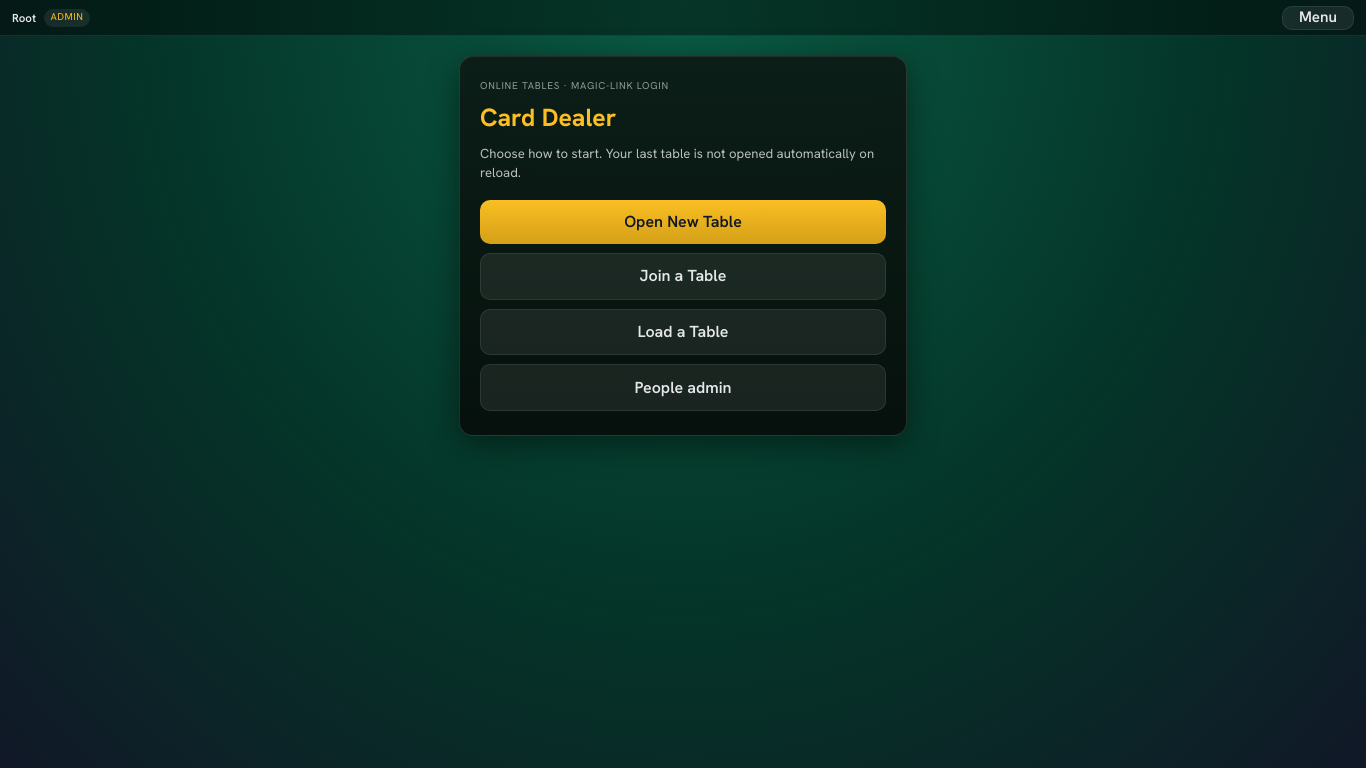
entry lobby slide-outs › Open New Table does not auto-create when clicked from App lobby
Click the button "Open New Table" at (683, 222), box [480, 200, 886, 244]
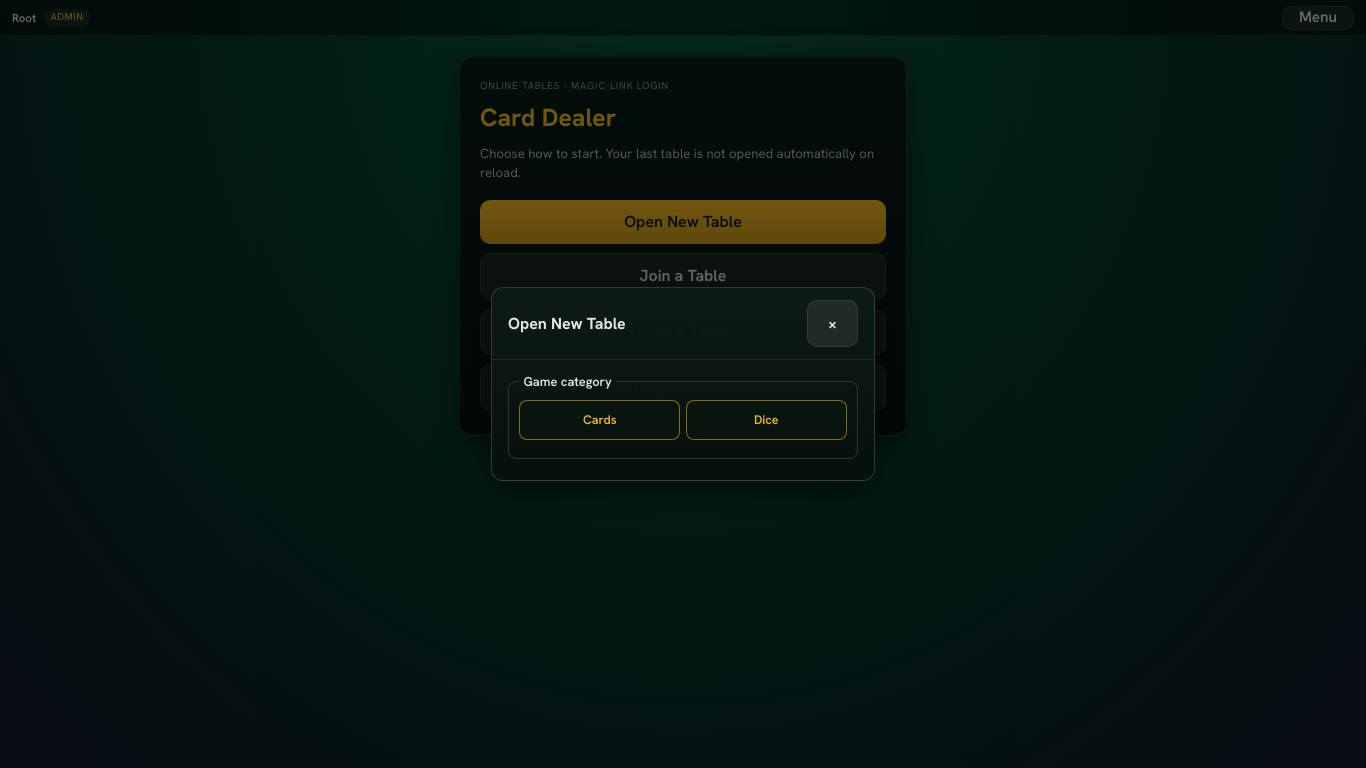
Result: the dialog "Open New Table" is shown at [491, 287, 875, 481]
Result: the element showing "Open New Table × Game category Cards Dice" is shown
